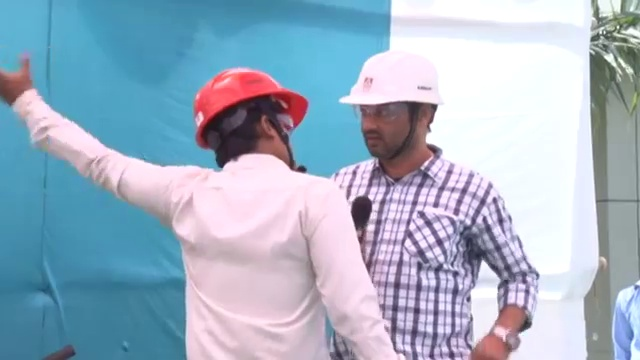helmet: (184, 65, 310, 144), (338, 46, 445, 110)
helmet_on: (337, 45, 445, 179), (183, 64, 311, 171)
person: (1, 54, 400, 360), (329, 43, 544, 360)
